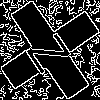Z: (25, 25, 80, 76)
